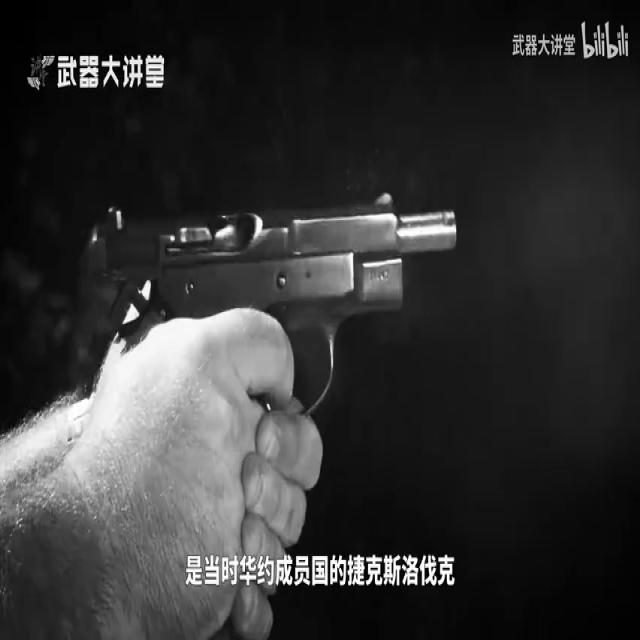Hand-Gun: (122, 196, 470, 425)
